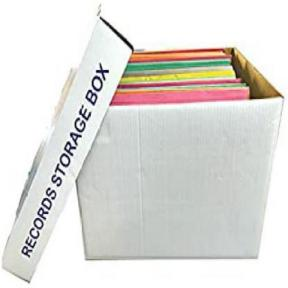box: (0, 2, 287, 287)
